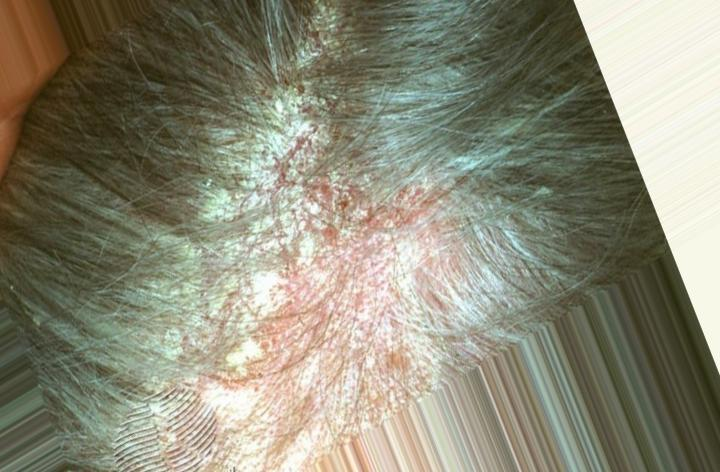Contact Dermatitis: (148, 86, 516, 393)
